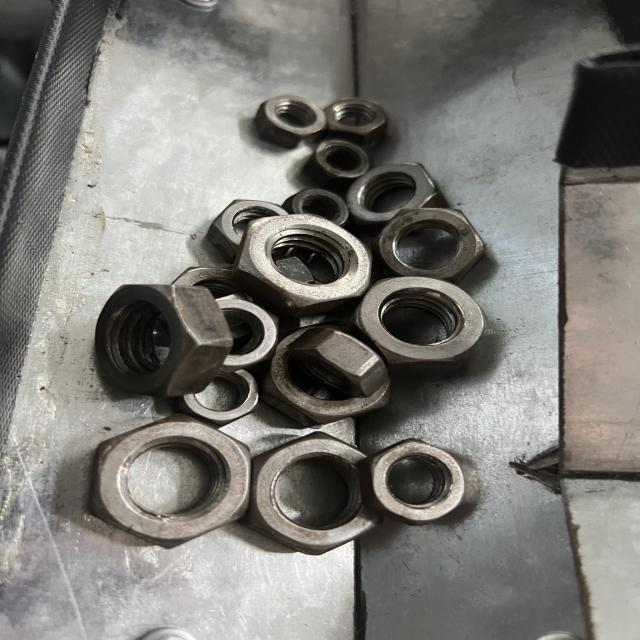nut: (89, 416, 254, 546), (93, 286, 232, 398), (239, 213, 371, 310), (364, 438, 466, 528), (383, 206, 488, 292), (257, 94, 327, 148)
